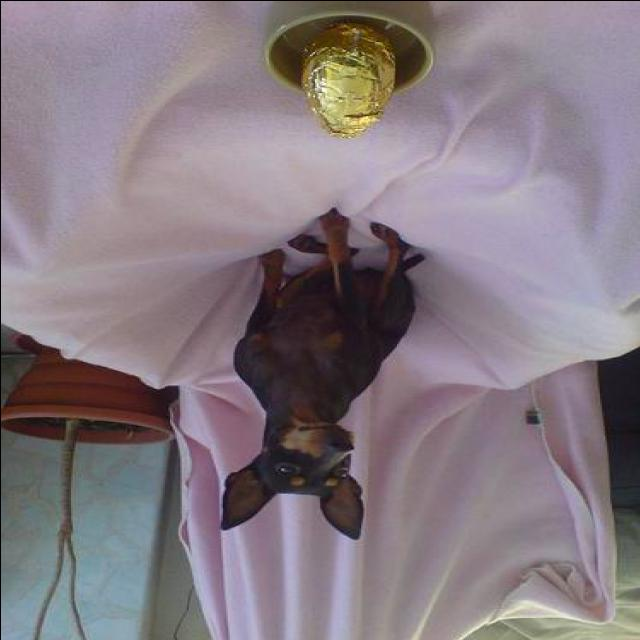toy_terrier: (202, 207, 422, 543)
